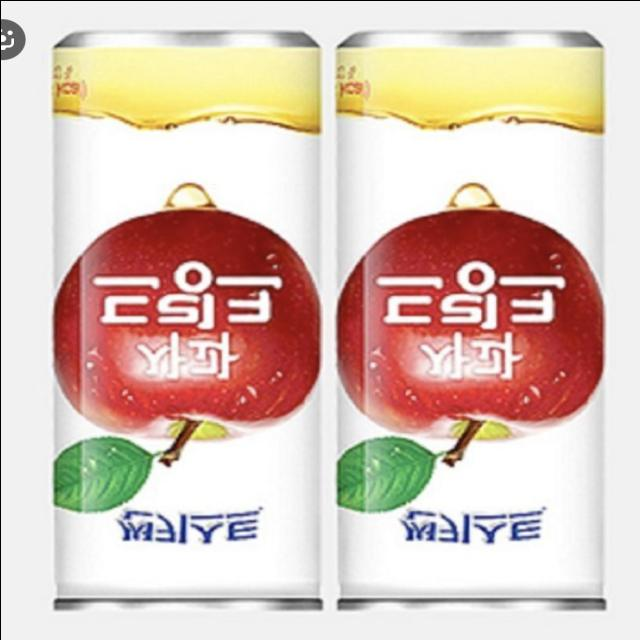can: (318, 18, 632, 628), (29, 19, 343, 626)
